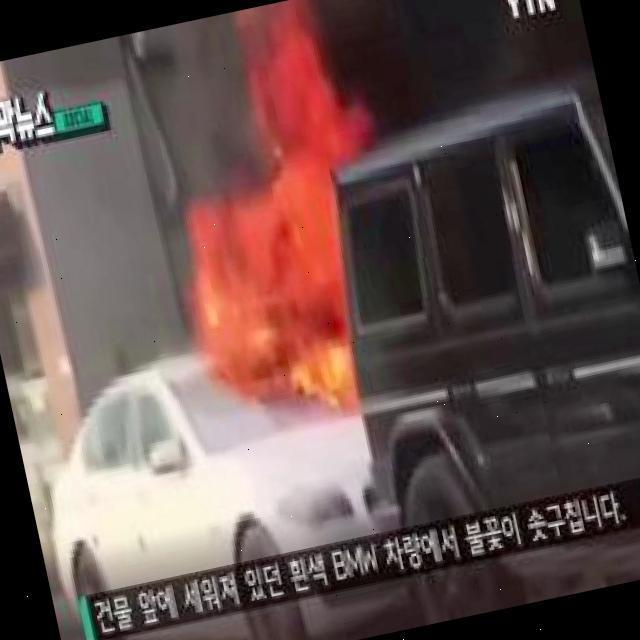fire: (168, 57, 417, 412)
